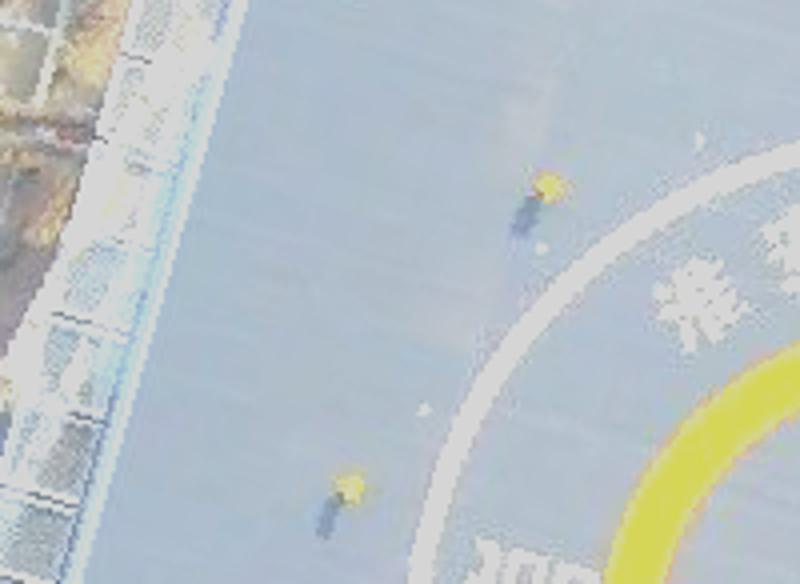Apron: (555, 306, 800, 584)
